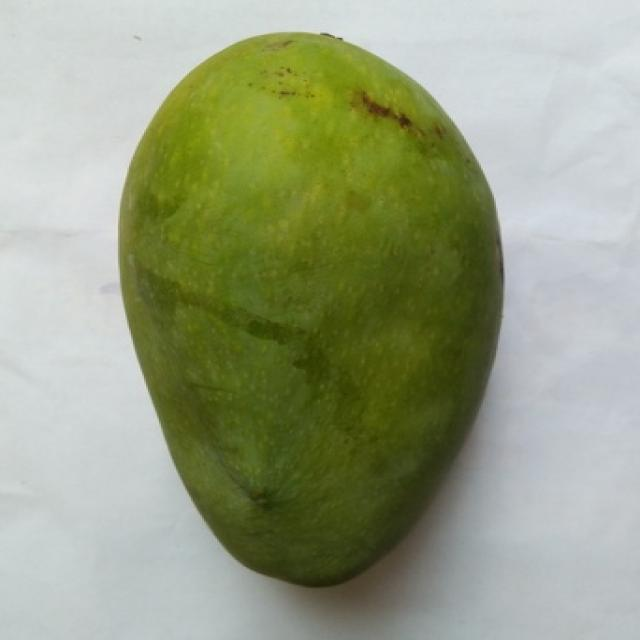Mango: (120, 34, 502, 585)
